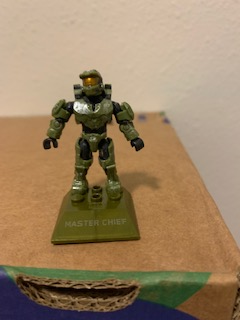chief: (43, 68, 146, 202)
spartan: (41, 66, 144, 200)
